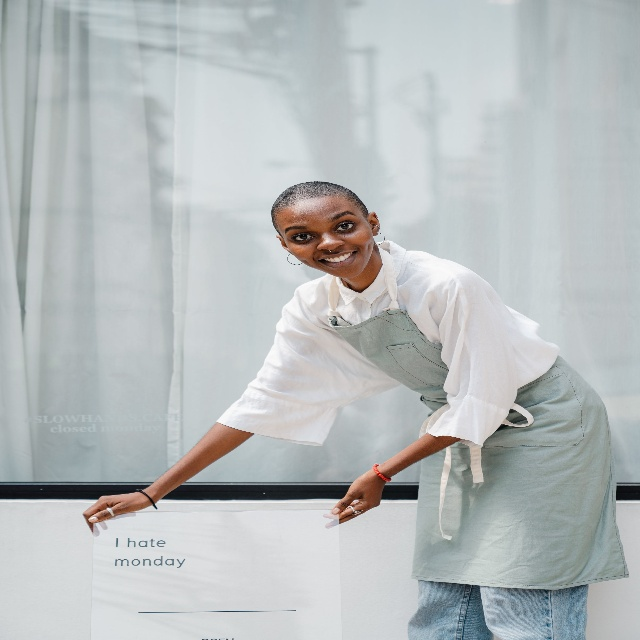Sin_guantes: (84, 480, 152, 542), (326, 470, 385, 534)
